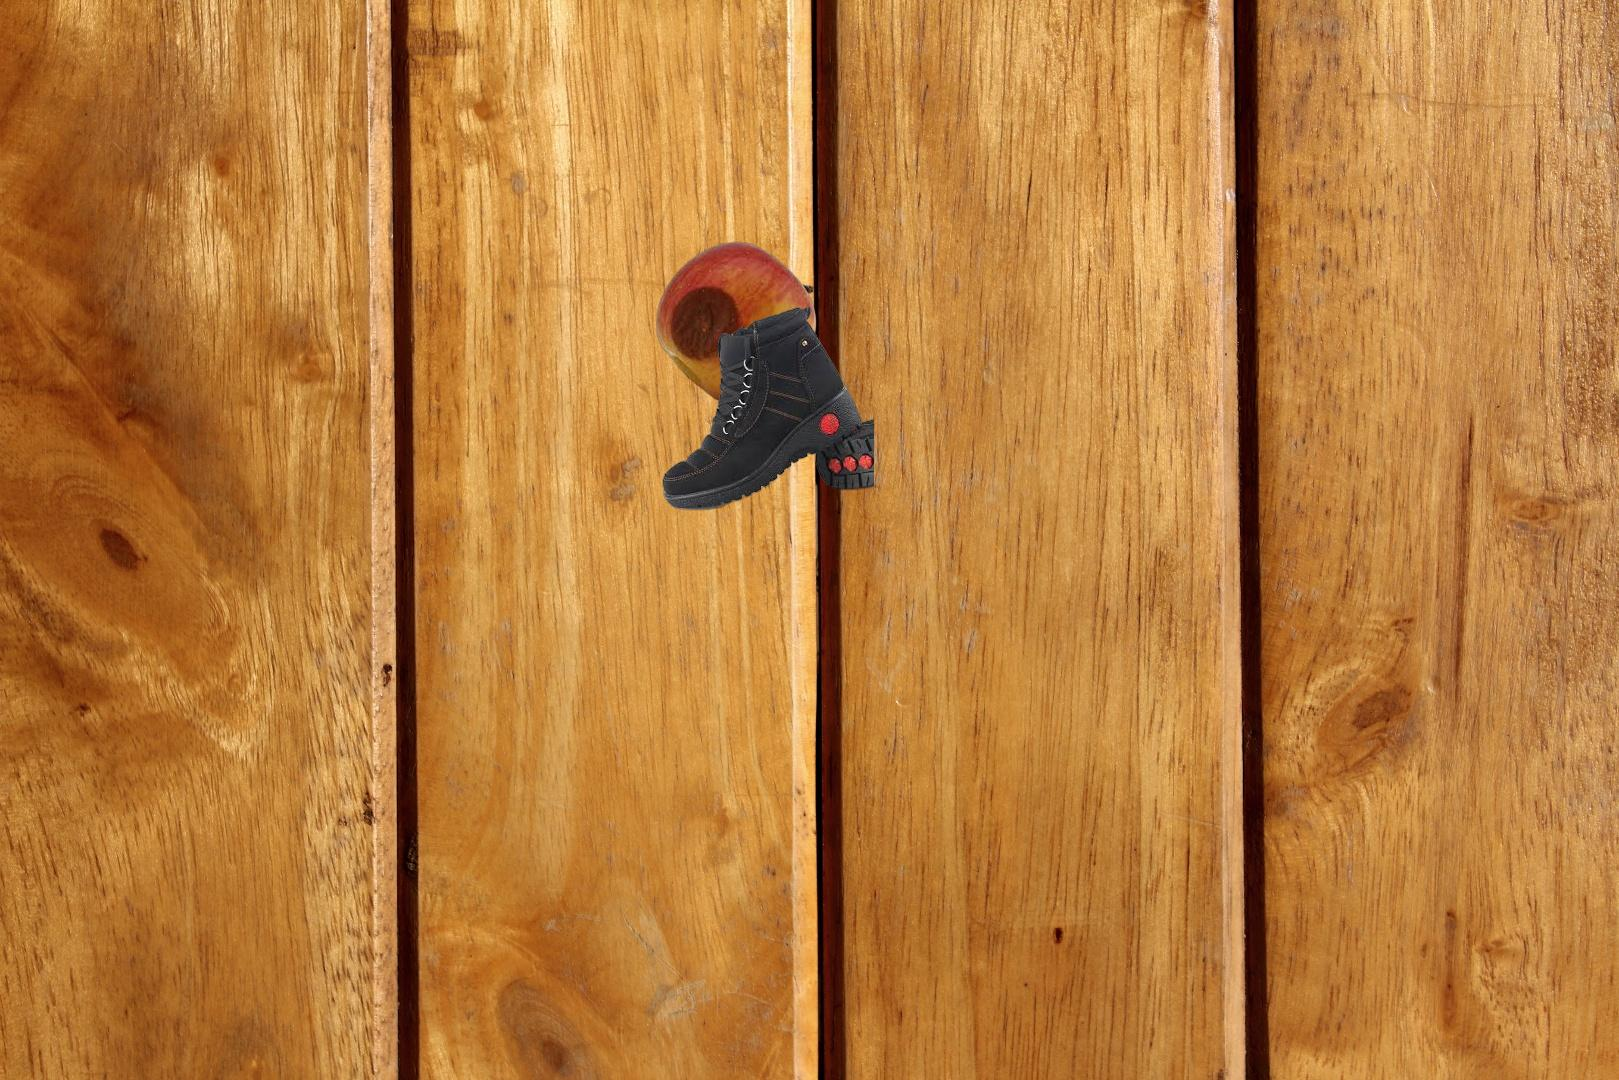biological: (655, 239, 819, 406)
shoes: (659, 304, 874, 513)
